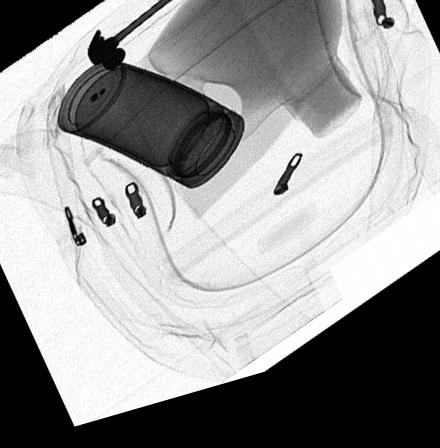Hammer: (85, 0, 187, 77)
